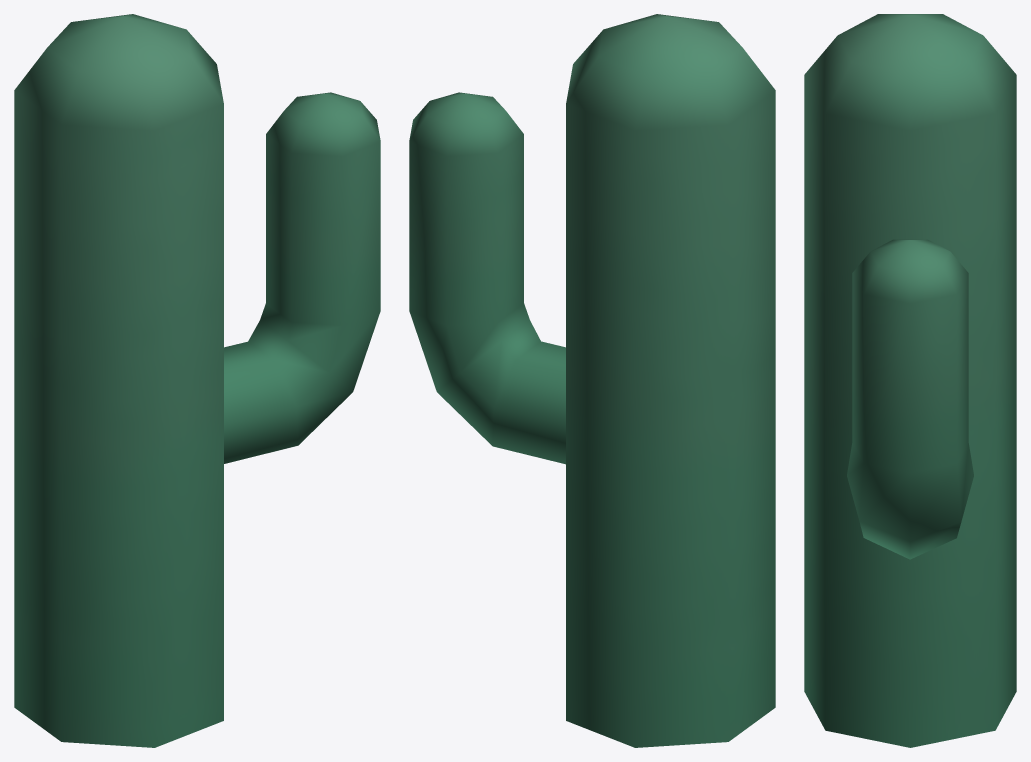
Rendered from tree_2.fbx.
3 renders of one model, left to right at view 1: azimuth 30°, elevation 25°; view 2: azimuth 150°, elevation 25°; view 3: azimuth 270°, elevation 25°, orthographic.
Parts seen in each view (by area): view 1: tree_2; view 2: tree_2; view 3: tree_2.
Boxes of the visible parts, bbox=[...] form: tree_2: bbox=[14, 14, 380, 747]; tree_2: bbox=[409, 14, 775, 747]; tree_2: bbox=[804, 14, 1016, 747].
Bounding box in the file's own units: 170 × 330 × 92.32.
